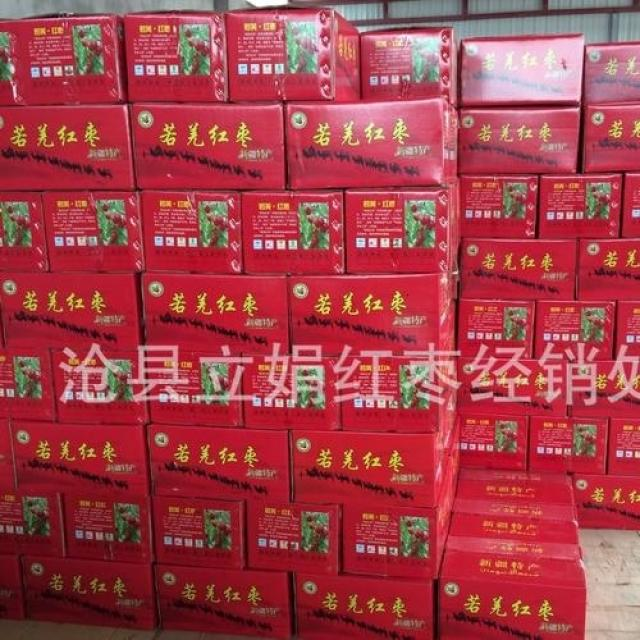box: (439, 536, 588, 640), (284, 99, 453, 189), (288, 273, 453, 360), (129, 102, 287, 191), (225, 4, 361, 102), (291, 430, 451, 509), (0, 12, 128, 108), (142, 274, 289, 356), (0, 105, 134, 191), (147, 424, 293, 502), (22, 556, 157, 640), (9, 417, 148, 497), (0, 273, 141, 351), (155, 564, 292, 640), (125, 8, 229, 104), (346, 187, 457, 274), (293, 572, 433, 639), (460, 33, 585, 108), (342, 490, 449, 577), (41, 192, 146, 273), (457, 105, 580, 174), (339, 356, 449, 433), (242, 191, 344, 274), (141, 191, 241, 274), (360, 27, 458, 106), (242, 355, 343, 430), (146, 351, 243, 429), (152, 494, 248, 571), (51, 349, 148, 424), (460, 238, 577, 300), (246, 502, 343, 575), (458, 357, 568, 417), (64, 495, 155, 562), (448, 498, 580, 544), (539, 173, 623, 239), (456, 297, 538, 360), (457, 175, 538, 238), (535, 300, 616, 361), (530, 416, 608, 474), (0, 493, 68, 558), (456, 467, 575, 502), (570, 360, 640, 419), (582, 104, 640, 173), (0, 348, 55, 420), (1, 191, 47, 274), (460, 413, 529, 468), (579, 239, 640, 301), (573, 474, 640, 530), (585, 41, 640, 105), (0, 556, 26, 640), (607, 419, 640, 475), (616, 301, 640, 360), (0, 419, 17, 492), (622, 172, 640, 237)
